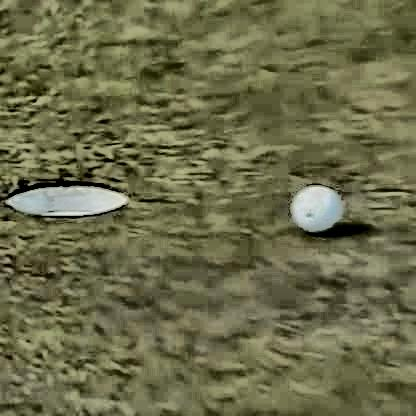golfball: (287, 180, 341, 234)
